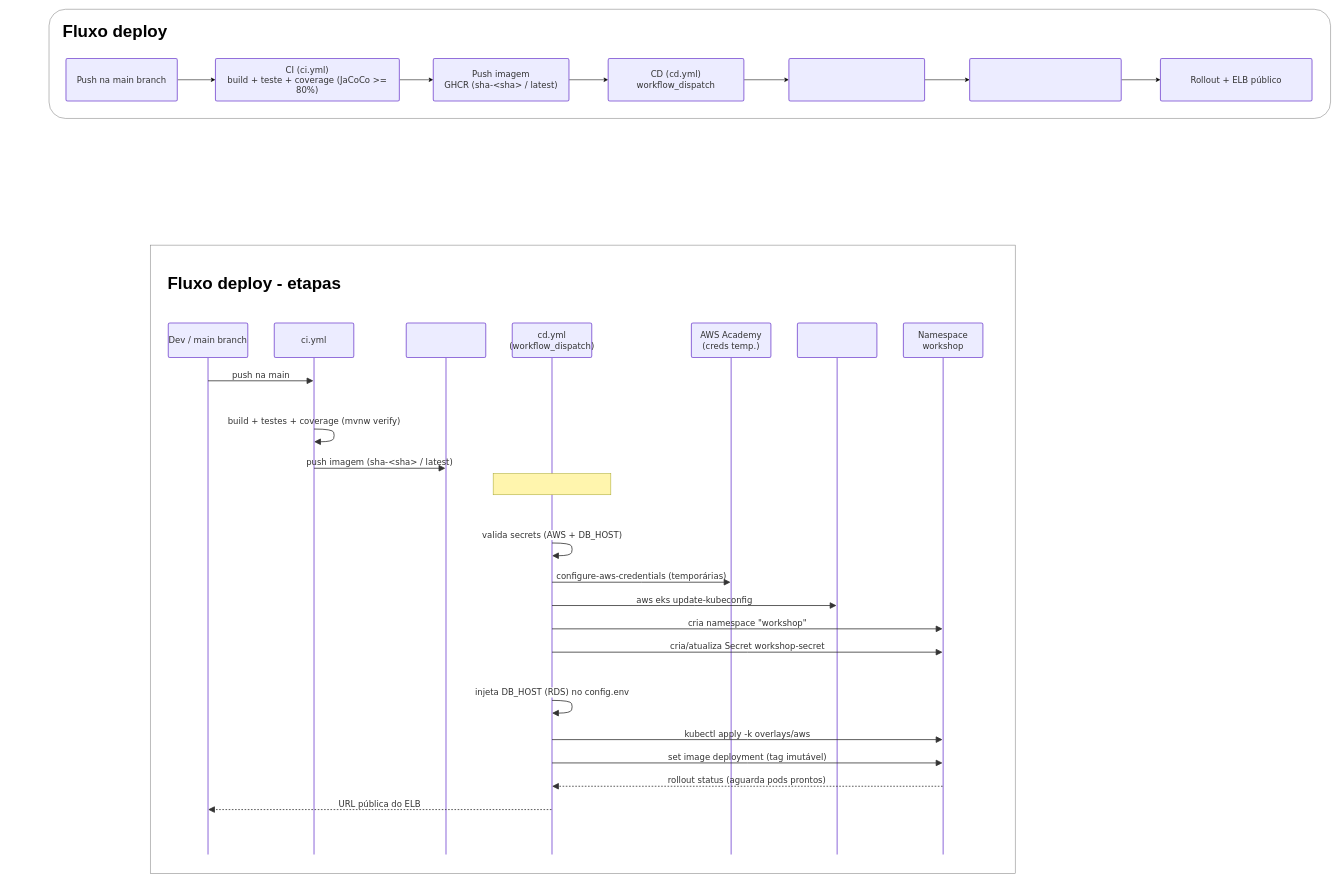
Image size: 1340x883. Some labels were removed from this diagram. Each missing label, with the box of its shape:
AWS Academy (auth) update kubeconfig: (788, 58, 925, 101)
Cluster EKS: (797, 322, 877, 855)
Cluster EKS - namespace workshop kubectl apply -k k8s/overlays/aws: (969, 58, 1121, 101)
disparo manual com image_tag: (493, 473, 611, 495)
GHCR: (405, 322, 486, 855)
